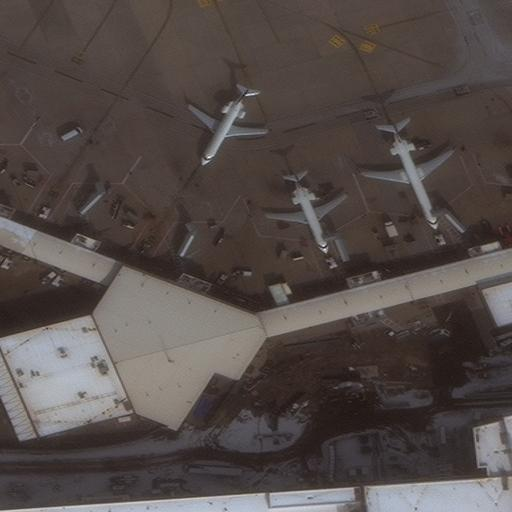Medium Civil Transport: (361, 122, 454, 229), (266, 173, 348, 254), (186, 86, 265, 166)
